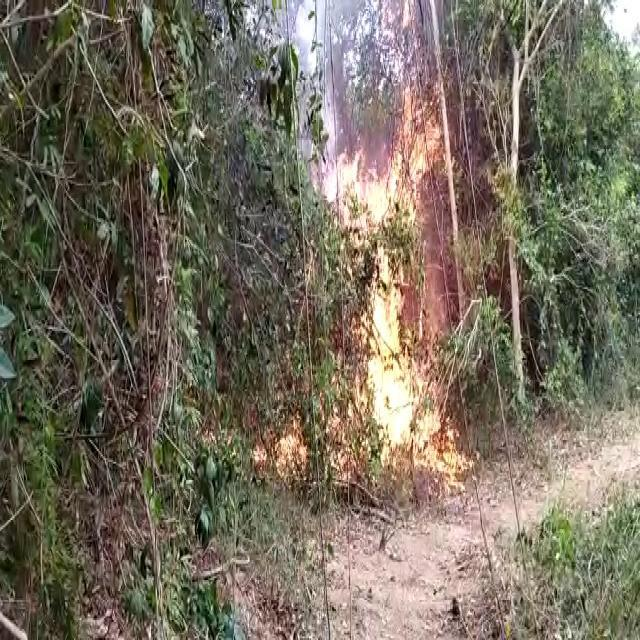Fire: (310, 85, 477, 471)
Smoke: (298, 8, 336, 74)
